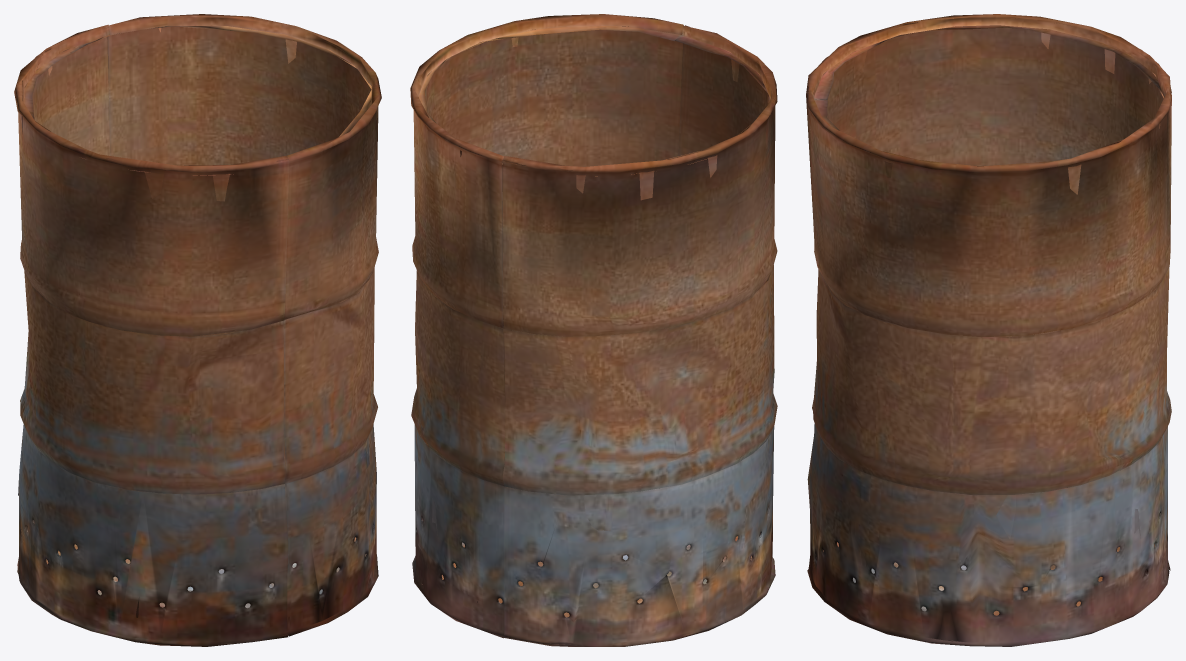
File: stove_barrel.glb
3 renders of one model, left to right at view 1: azimuth 30°, elevation 25°; view 2: azimuth 150°, elevation 25°; view 3: azimuth 270°, elevation 25°, orthographic.
Visible parts, largest first — view 1: barrel_stove; view 2: barrel_stove; view 3: barrel_stove.
Part boxes in pixels (x1,y1,x2,y2): barrel_stove: [14, 14, 381, 646]; barrel_stove: [410, 14, 777, 646]; barrel_stove: [806, 14, 1171, 646].
Size of the model in its own units: 0.5931 by 0.8573 by 0.5899.
1 material, 1 textured.
